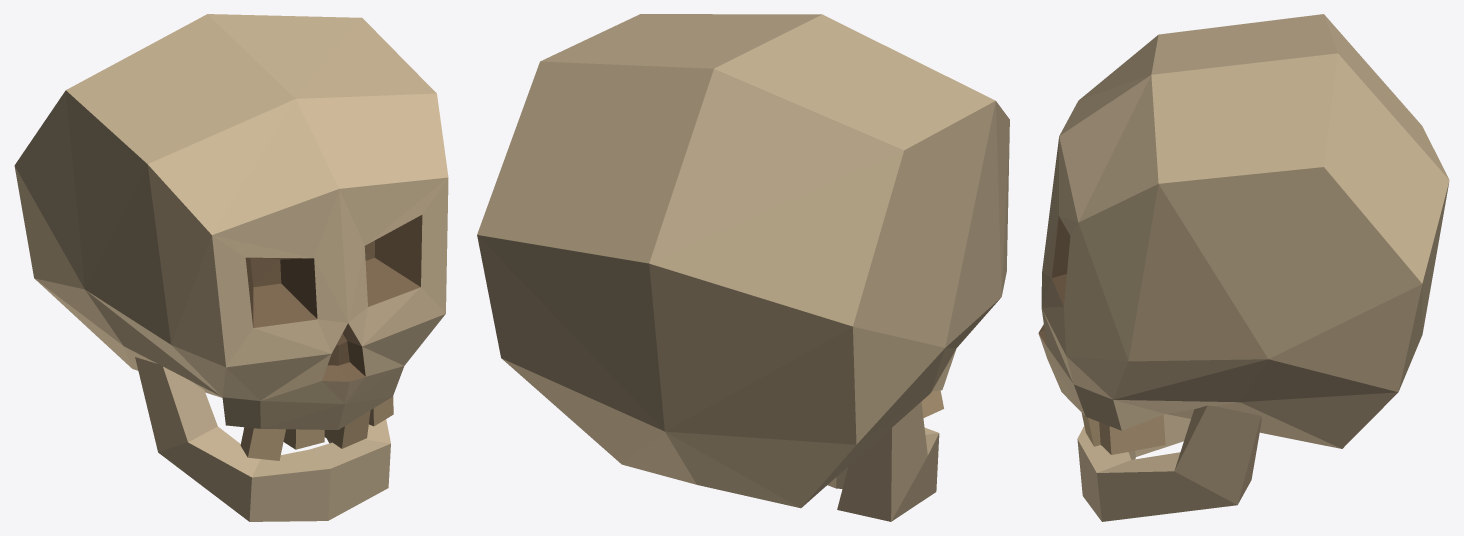
Rendered from SM_Icon_Skull_01.fbx.
The picture shows the model from 3 angles, left to right: view 1: azimuth 30°, elevation 25°; view 2: azimuth 150°, elevation 25°; view 3: azimuth 270°, elevation 25°; orthographic projection. The views are drawn at different scales.
Parts seen in each view (by area): view 1: SM_Icon_Skull_01; view 2: SM_Icon_Skull_01; view 3: SM_Icon_Skull_01.
Boxes of the visible parts, box(x1,y1,x2,y2) form: SM_Icon_Skull_01: box(14, 14, 448, 521); SM_Icon_Skull_01: box(477, 14, 1009, 521); SM_Icon_Skull_01: box(1038, 14, 1449, 521).
Bounding box in the file's own units: 42.91 × 55.21 × 46.48.
